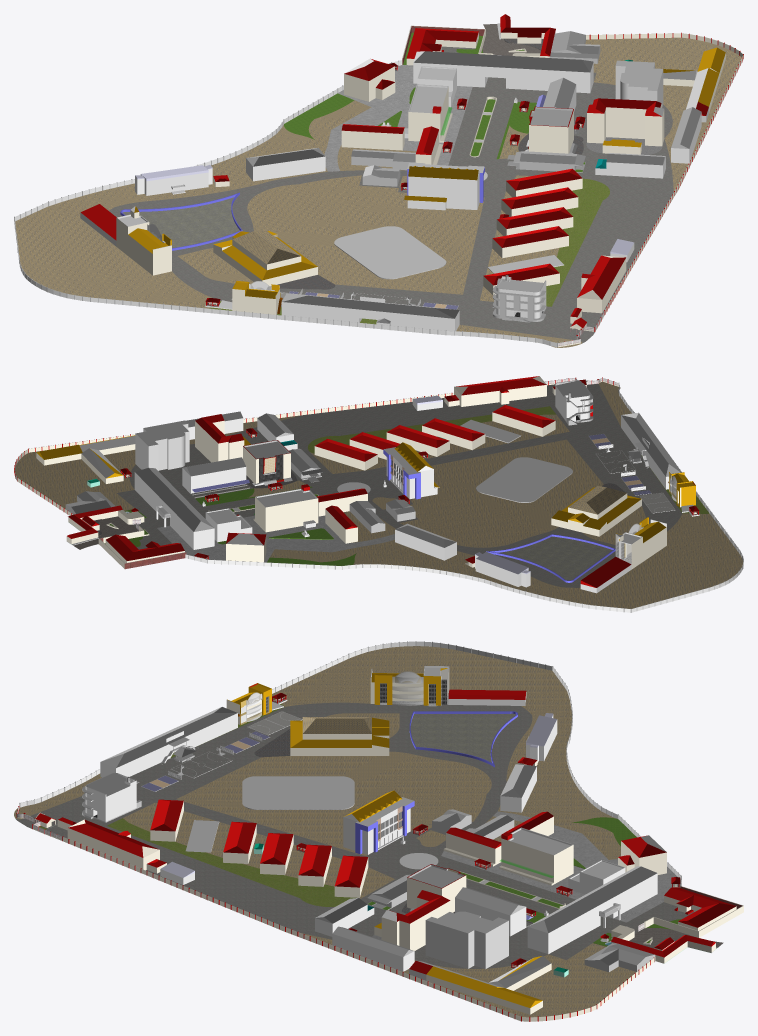
The model's file is TakeAMaap.glb.
The picture shows the model from 3 angles, top to bottom: view 1: azimuth 30°, elevation 25°; view 2: azimuth 150°, elevation 25°; view 3: azimuth 270°, elevation 25°; orthographic projection. The views are drawn at different scales.
Visible parts, largest first — view 1: Node11657, Node11639, Node11536, Node11646, Node11537, Node10058, Node11640, Node7968, Node11533, Node1330, Node7981, Node1519 (+33 smaller); view 2: Node11657, Node11639, Node11536, Node11646, Node11537, Node10058, Node11640, Node11535, Node8114, Node7980, Node11533, Node7971 (+41 smaller); view 3: Node11657, Node11639, Node11536, Node11646, Node10058, Node11640, Node11537, Node11535, Node11533, Node7971, Node7980, Node8205 (+26 smaller).
Boxes of the visible parts, x1,y1,x2,y2 form: Node11657: [109, 82, 673, 340]; Node11639: [15, 100, 371, 308]; Node11536: [247, 175, 484, 294]; Node11646: [585, 37, 741, 194]; Node11537: [324, 65, 472, 171]; Node10058: [334, 226, 446, 278]; Node11640: [122, 197, 239, 248]; Node7968: [413, 62, 590, 93]; Node11533: [546, 178, 609, 306]; Node1330: [281, 302, 454, 331]; Node7981: [414, 51, 589, 72]; Node1519: [408, 176, 477, 209]; Node11657: [129, 384, 682, 587]; Node11639: [270, 513, 742, 608]; Node11536: [386, 439, 603, 547]; Node11646: [15, 415, 301, 510]; Node11537: [157, 515, 394, 562]; Node10058: [476, 457, 572, 502]; Node11640: [497, 536, 612, 580]; Node11535: [310, 414, 569, 473]; Node8114: [265, 498, 318, 532]; Node7980: [135, 468, 200, 531]; Node11533: [308, 406, 555, 453]; Node7971: [134, 472, 193, 549]; Node11657: [25, 696, 575, 968]; Node11639: [272, 646, 620, 859]; Node11536: [176, 751, 491, 855]; Node11646: [282, 930, 635, 1017]; Node10058: [242, 776, 354, 809]; Node11640: [410, 713, 515, 762]; Node11537: [441, 811, 680, 922]; Node11535: [123, 802, 394, 898]; Node11533: [107, 818, 356, 906]; Node7971: [548, 873, 657, 953]; Node7980: [544, 866, 657, 932]; Node8205: [425, 920, 468, 968].
Bounding box in the file's own units: 346 × 16.38 × 284.
Materials: 50 (28 with a texture image).
